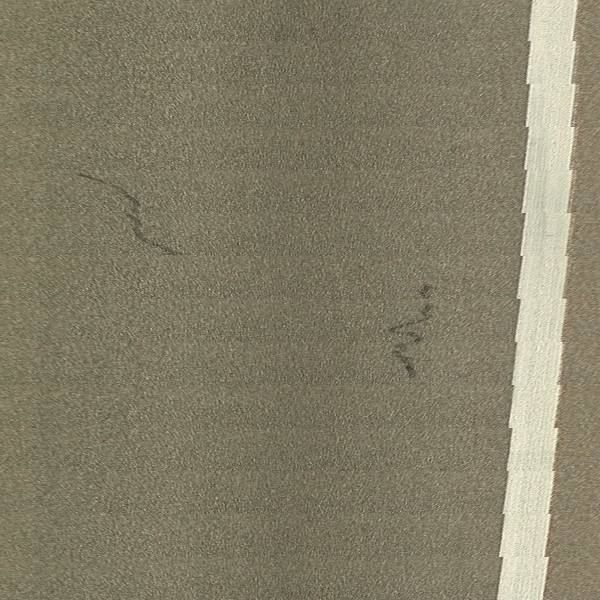road_damage: (77, 169, 183, 255), (387, 279, 439, 386)
